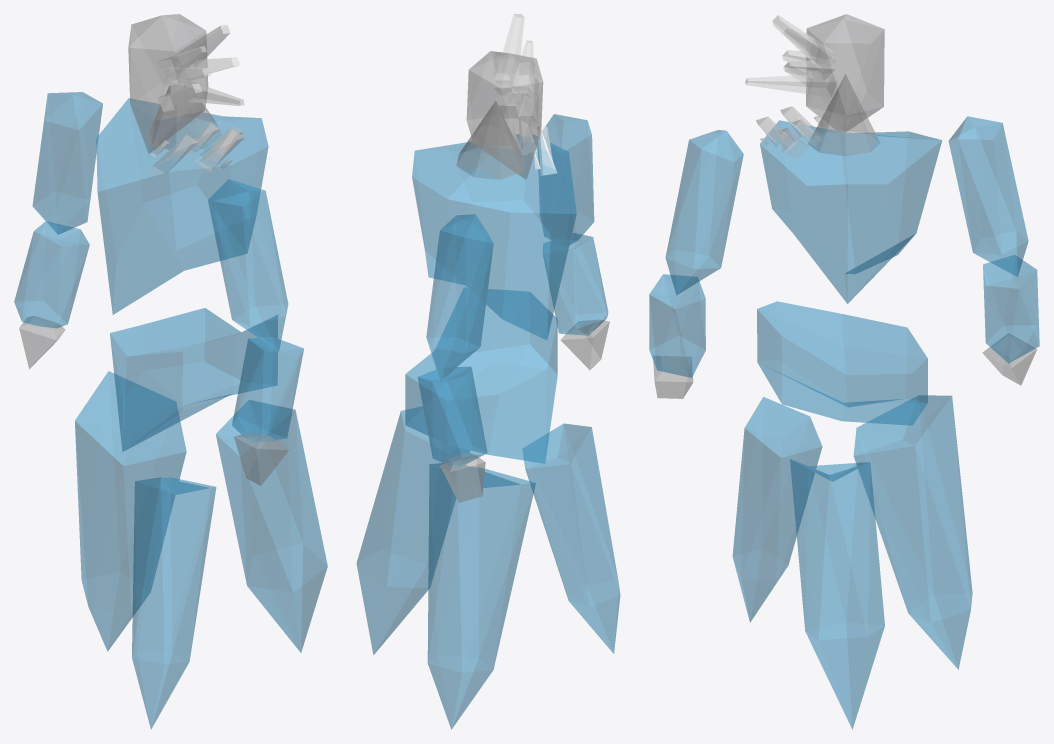
The model's file is ghostIdle29.obj.
3 renders of one model, left to right at view 1: azimuth 30°, elevation 25°; view 2: azimuth 150°, elevation 25°; view 3: azimuth 270°, elevation 25°, orthographic. The views are drawn at different scales.
Parts seen in each view (by area): view 1: Cube.001_Cube.001, Icosphere.005, Icosphere.004, Cube_Cube.002, Icosphere.003, Icosphere.005_Icosphere.001, Icosphere.003_Icosphere.001, Icosphere.007_Icosphere.001, Icosphere.008_Icosphere.001, Icosphere.006_Icosphere.001, Cone_Cone.002, Cube.002_Cube.001 (+8 smaller); view 2: Cube.001_Cube.001, Cube_Cube.002, Icosphere.005, Icosphere.004, Icosphere.003, Icosphere.007_Icosphere.001, Icosphere.003_Icosphere.001, Icosphere.005_Icosphere.001, Icosphere.008_Icosphere.001, Icosphere.006_Icosphere.001, Cone_Cone.002, Cube.003_Cube.001 (+5 smaller); view 3: Cube.001_Cube.001, Icosphere.005, Icosphere.004, Cube_Cube.002, Icosphere.003, Icosphere.005_Icosphere.001, Icosphere.007_Icosphere.001, Icosphere.003_Icosphere.001, Icosphere.006_Icosphere.001, Icosphere.008_Icosphere.001, Cone_Cone.002, Cube.003_Cube.001 (+4 smaller).
Boxes of the visible parts, box(x1,y1,x2,y2) form: Cube.001_Cube.001: box(96, 98, 268, 314); Icosphere.005: box(75, 371, 186, 651); Icosphere.004: box(216, 400, 327, 652); Cube_Cube.002: box(110, 308, 277, 451); Icosphere.003: box(132, 477, 216, 729); Icosphere.005_Icosphere.001: box(208, 179, 288, 351); Icosphere.003_Icosphere.001: box(128, 14, 208, 153); Icosphere.007_Icosphere.001: box(32, 92, 102, 234); Icosphere.008_Icosphere.001: box(14, 221, 89, 328); Icosphere.006_Icosphere.001: box(232, 337, 303, 442); Cone_Cone.002: box(149, 86, 221, 149); Cube.002_Cube.001: box(234, 433, 288, 485); Cube.001_Cube.001: box(412, 134, 576, 340); Cube_Cube.002: box(405, 287, 557, 463); Icosphere.005: box(427, 463, 535, 729); Icosphere.004: box(356, 406, 469, 655); Icosphere.003: box(522, 423, 620, 653); Icosphere.007_Icosphere.001: box(426, 214, 493, 380); Icosphere.003_Icosphere.001: box(466, 51, 543, 179); Icosphere.005_Icosphere.001: box(538, 114, 594, 246); Icosphere.008_Icosphere.001: box(417, 366, 487, 468); Icosphere.006_Icosphere.001: box(543, 233, 608, 335); Cone_Cone.002: box(456, 101, 522, 179); Cube.003_Cube.001: box(440, 453, 485, 502); Cube.001_Cube.001: box(760, 120, 941, 303); Icosphere.005: box(853, 395, 972, 669); Icosphere.004: box(790, 459, 884, 729); Cube_Cube.002: box(757, 301, 927, 425); Icosphere.003: box(732, 397, 822, 622); Icosphere.005_Icosphere.001: box(665, 130, 743, 295); Icosphere.007_Icosphere.001: box(948, 116, 1028, 276); Icosphere.003_Icosphere.001: box(806, 14, 884, 131); Icosphere.006_Icosphere.001: box(649, 274, 705, 377); Icosphere.008_Icosphere.001: box(983, 255, 1039, 363); Cone_Cone.002: box(808, 74, 879, 155); Cube.003_Cube.001: box(982, 333, 1036, 385).
Bounding box in the file's own units: 16.76 × 48.83 × 26.03.
